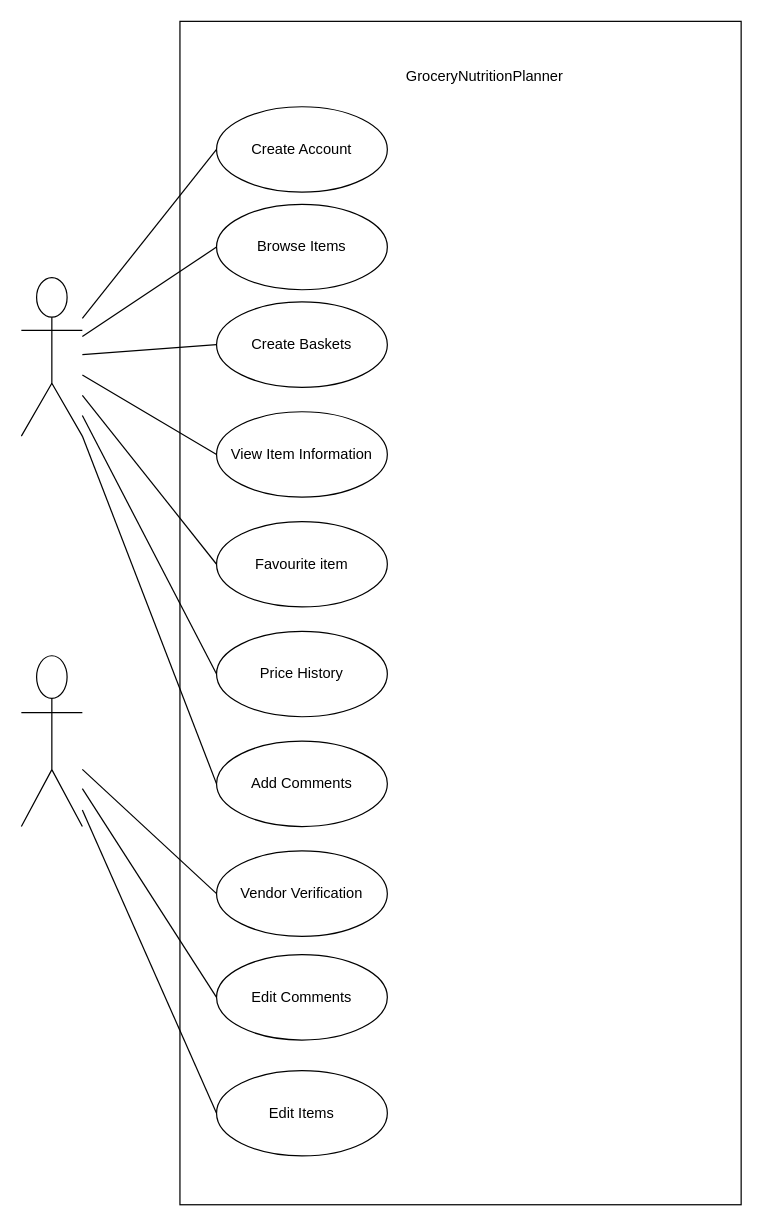
This 763x1226 diagram has some shape labels left out. The shapes that lost their labels are listed below. From the top down, each one's box as (x1, y1, x2, y2) in pixels, then its label:
(20, 276, 82, 436): Shopper
(20, 655, 82, 827): Vendor
